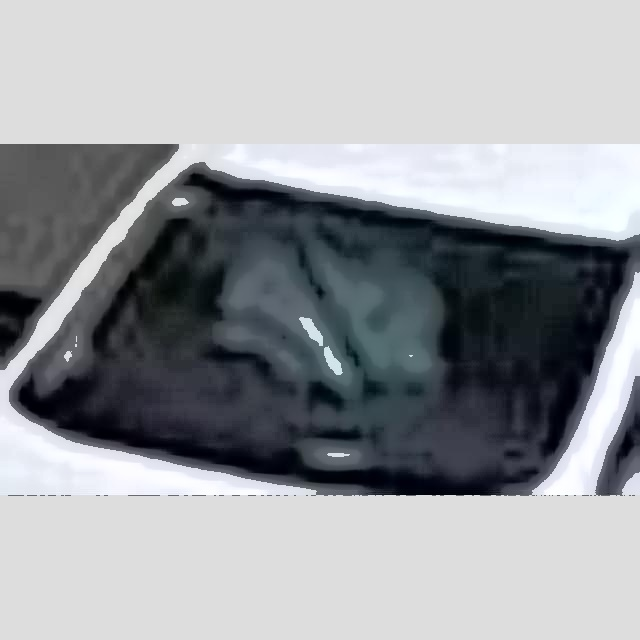pakai: (225, 207, 451, 414)
